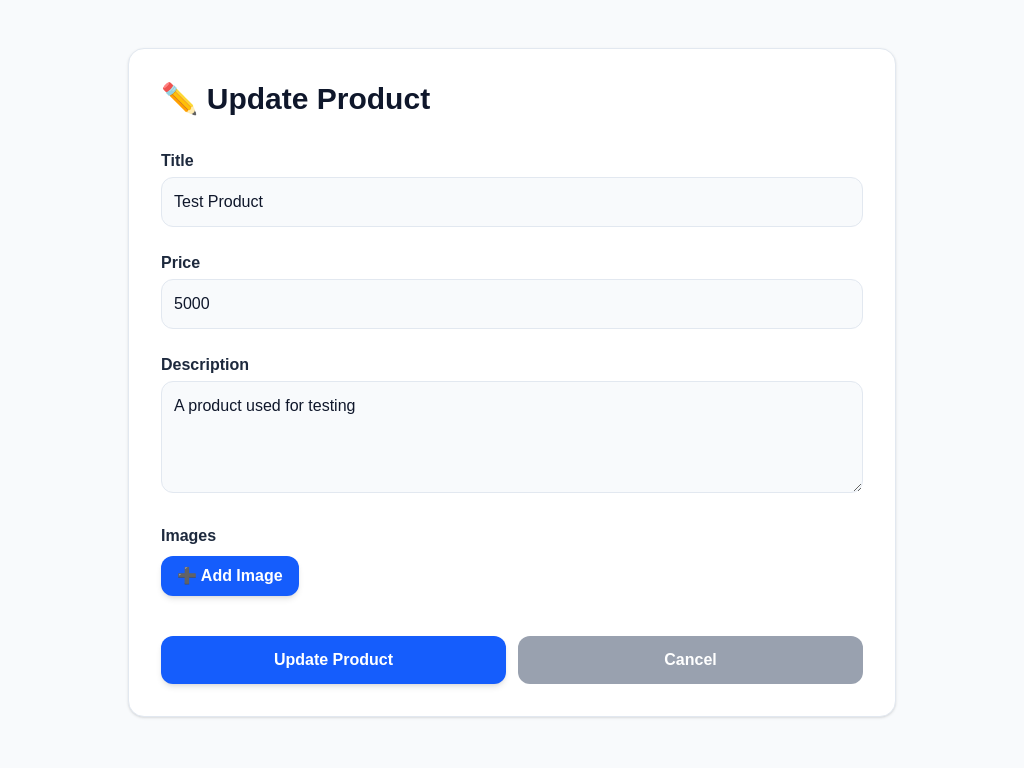
Test: 🧪 Update Product Page (with props) › adds new image input when clicking 'Add Image'
The image size is (1024, 768).
Click the button "➕ Add Image".
click(230, 576)  # box [161,556,299,596]
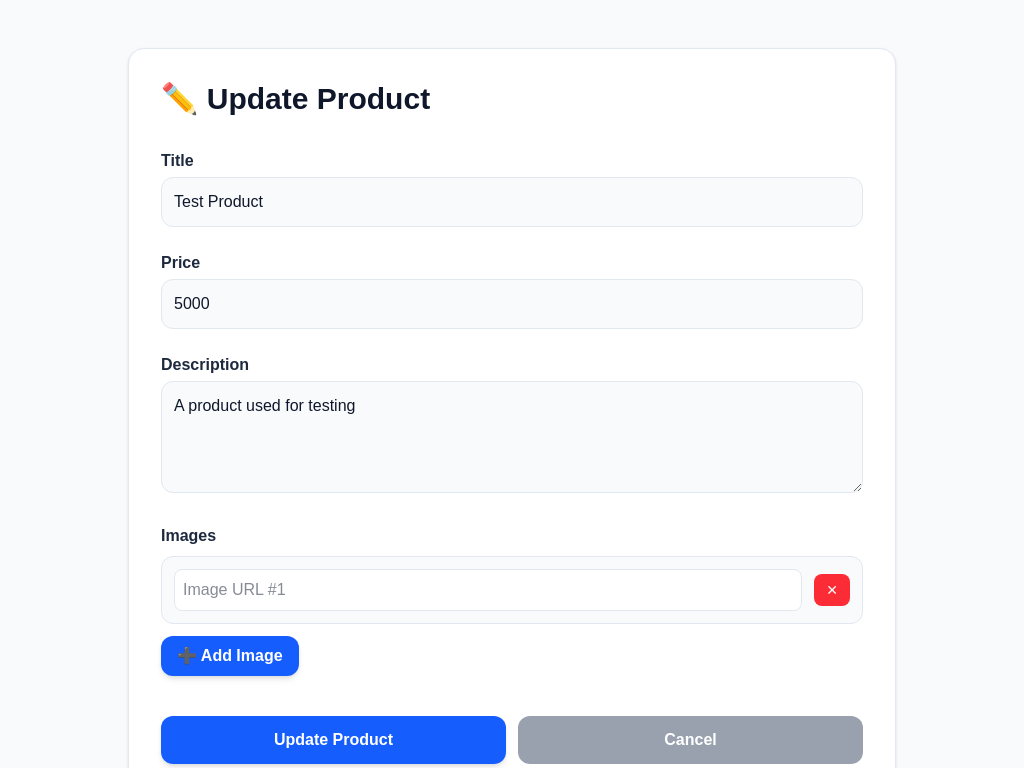
Expected: the field with placeholder "Image URL #1" is shown, [174,569,802,611]
